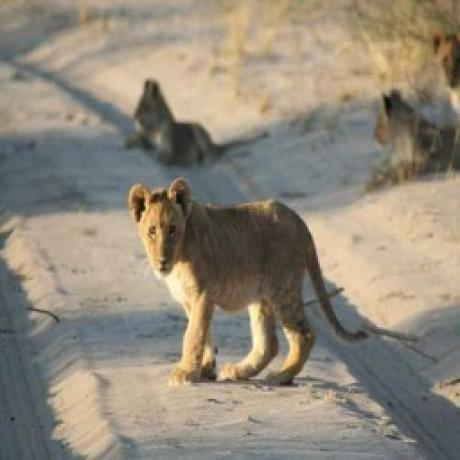Lion: (122, 175, 375, 386)
